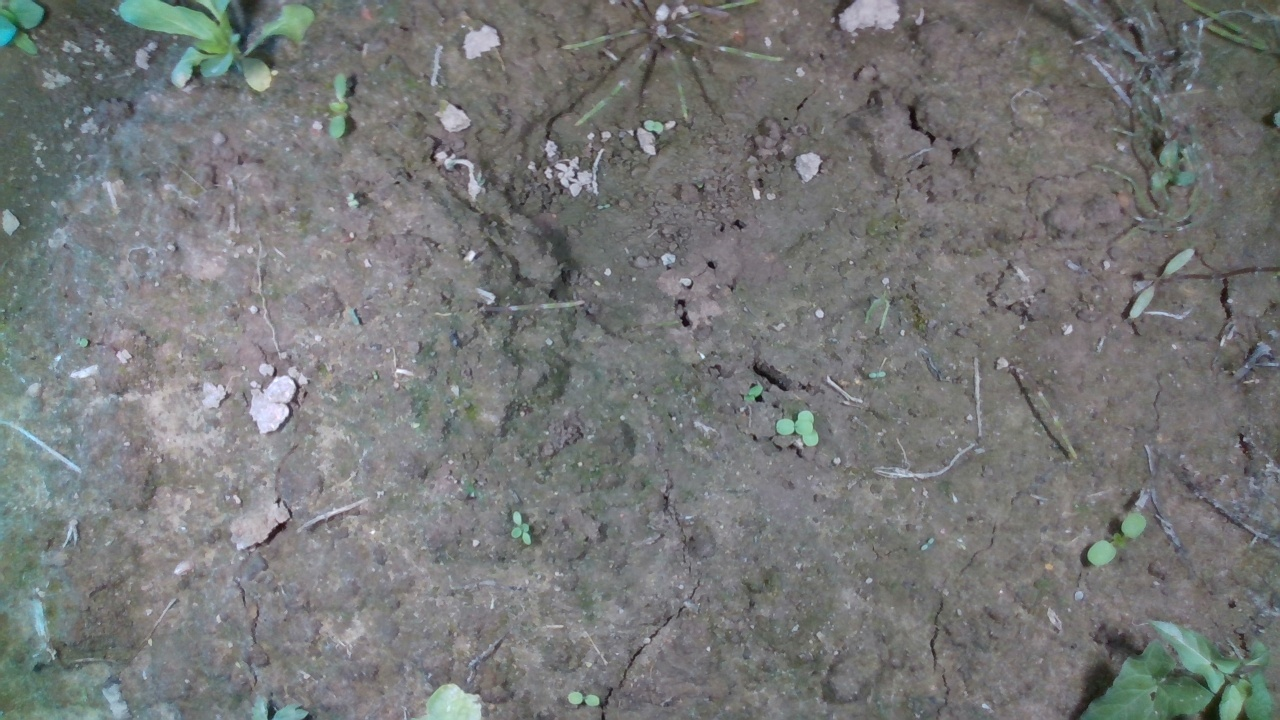weed: (1085, 510, 1148, 567), (505, 506, 551, 547), (326, 69, 349, 139), (564, 689, 604, 709)
